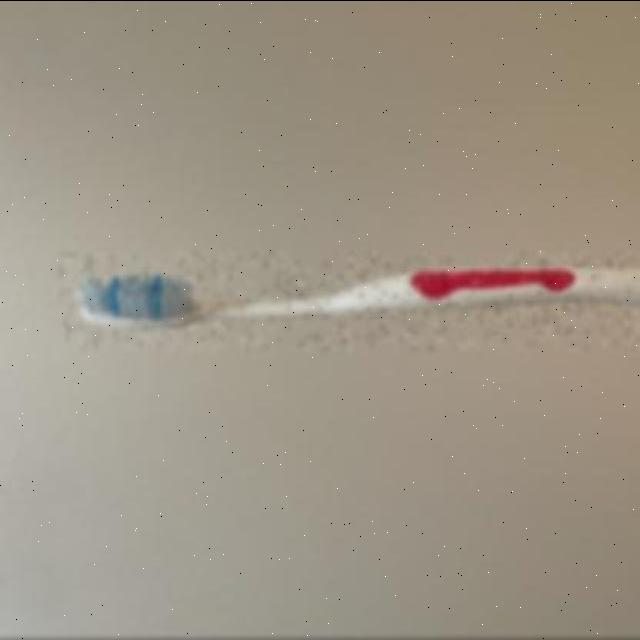toothbrush: (60, 254, 640, 350)
